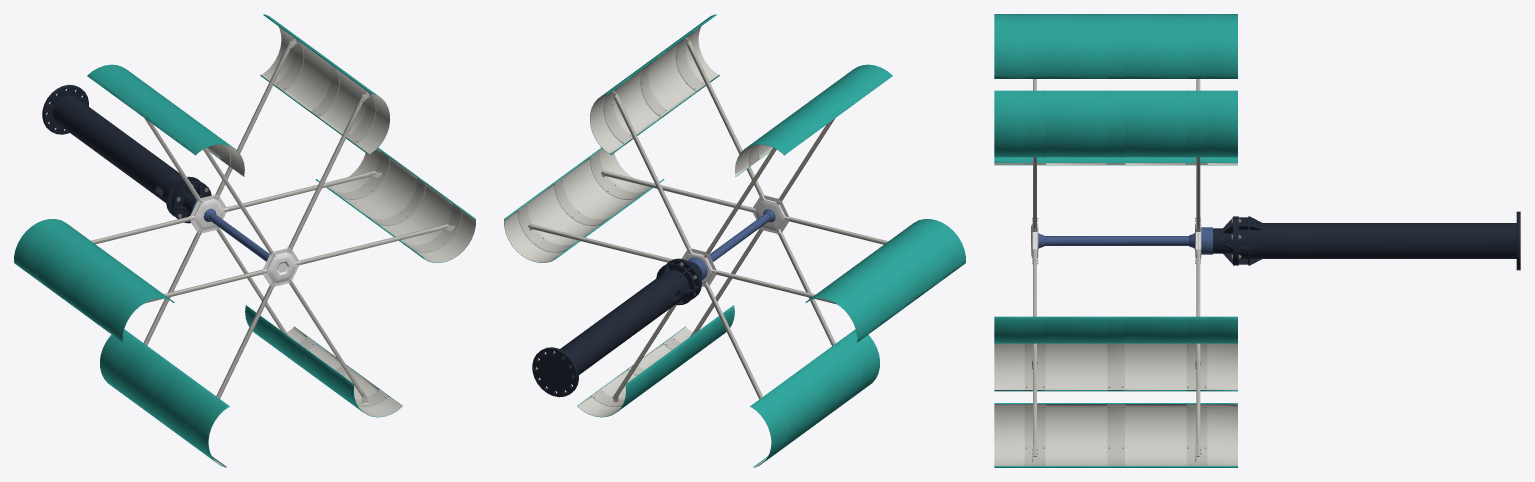
Rendered from Wind_Turbine_5.obj.
3 renders of one model, left to right at view 1: azimuth 30°, elevation 25°; view 2: azimuth 150°, elevation 25°; view 3: azimuth 270°, elevation 25°, orthographic. The views are drawn at different scales.
Visible parts, largest first — view 1: blades_pivot, base_pivot; view 2: blades_pivot, base_pivot; view 3: blades_pivot, base_pivot.
Part boxes in pixels (x1,y1,x2,y2): blades_pivot: [14, 14, 475, 467]; base_pivot: [42, 84, 211, 223]; blades_pivot: [504, 14, 965, 467]; base_pivot: [532, 258, 701, 397]; blades_pivot: [994, 14, 1237, 467]; base_pivot: [1213, 211, 1520, 270].
Bounding box in the file's own units: 565 × 517 × 648.
